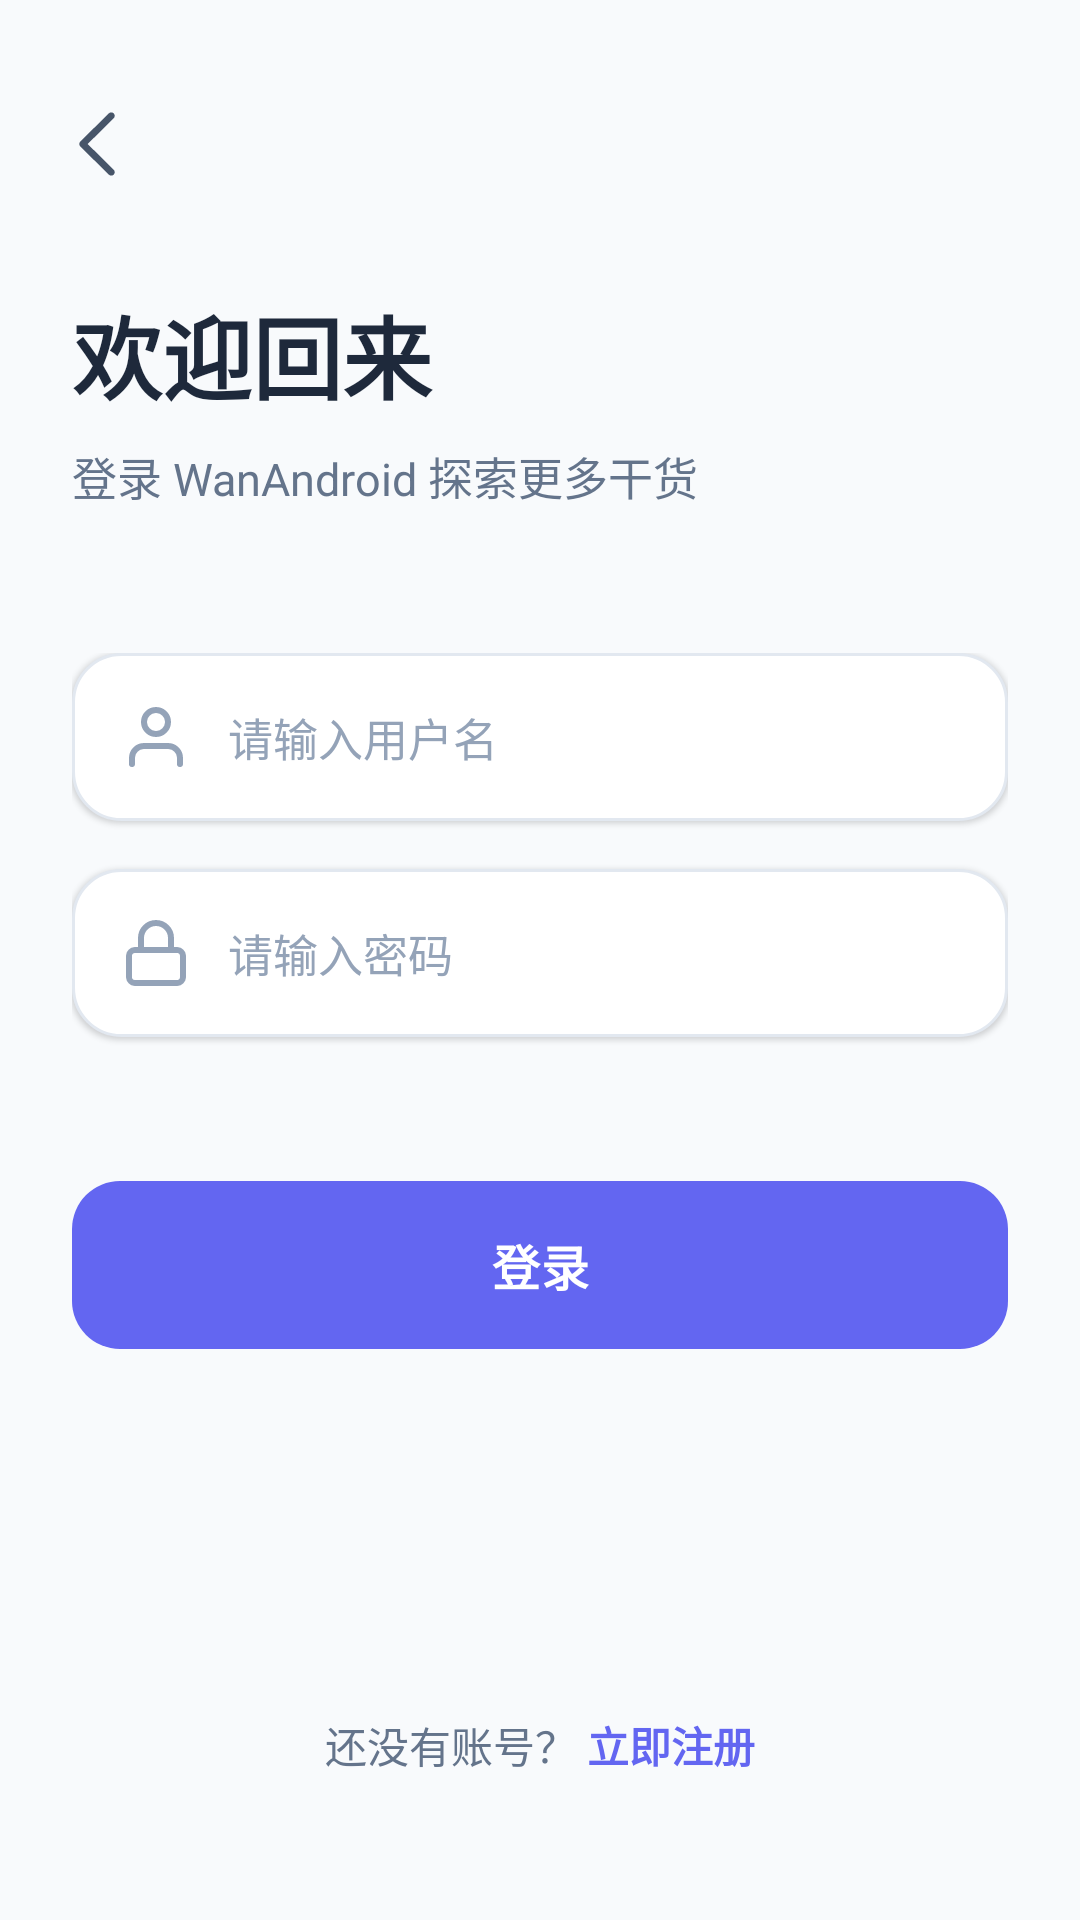

Where to tap for icons on this 1080 x 1920 app screen, as point (x, y):
back: point (97, 144)
